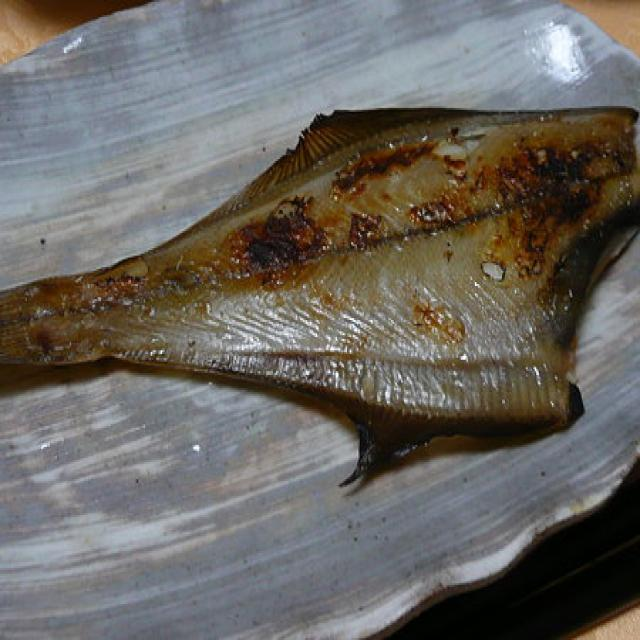熟制海鲜: (0, 100, 640, 485)
